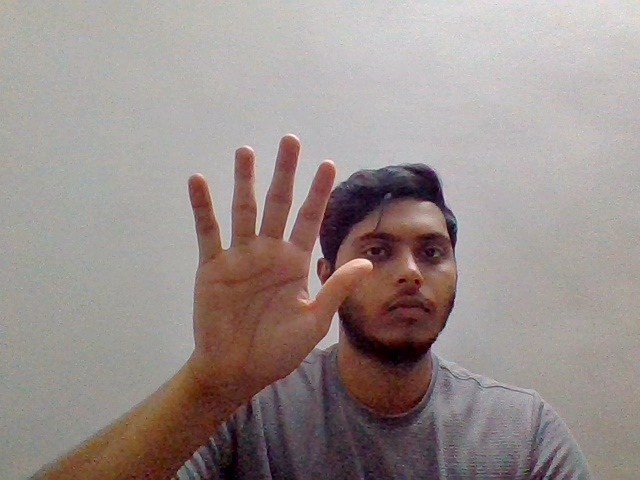Hello: (175, 125, 379, 411)
